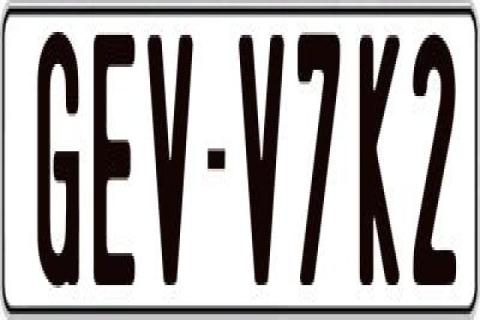0: (296, 35, 344, 297), (412, 26, 454, 294)
E: (92, 29, 134, 291)
G: (34, 24, 82, 294)
K: (358, 27, 404, 286)
V: (236, 35, 286, 299), (144, 35, 194, 297)
